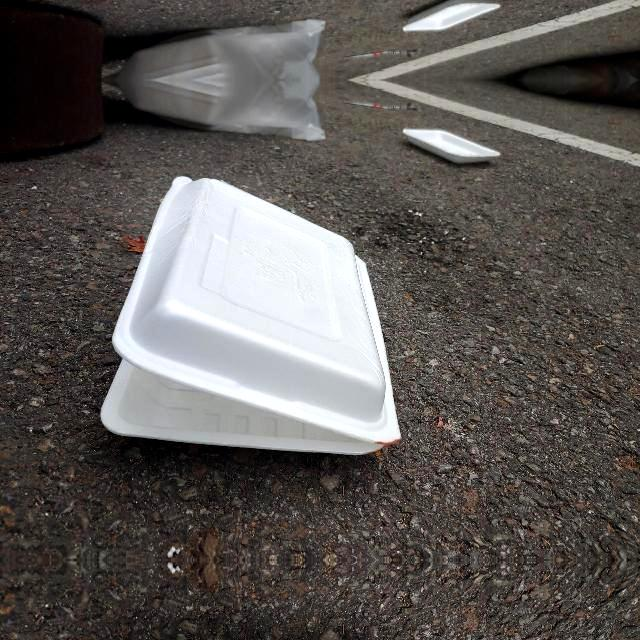Styrofoam: (96, 177, 400, 456), (101, 176, 401, 455), (402, 126, 502, 166), (403, 128, 501, 163), (402, 0, 501, 33), (403, 0, 501, 32)
